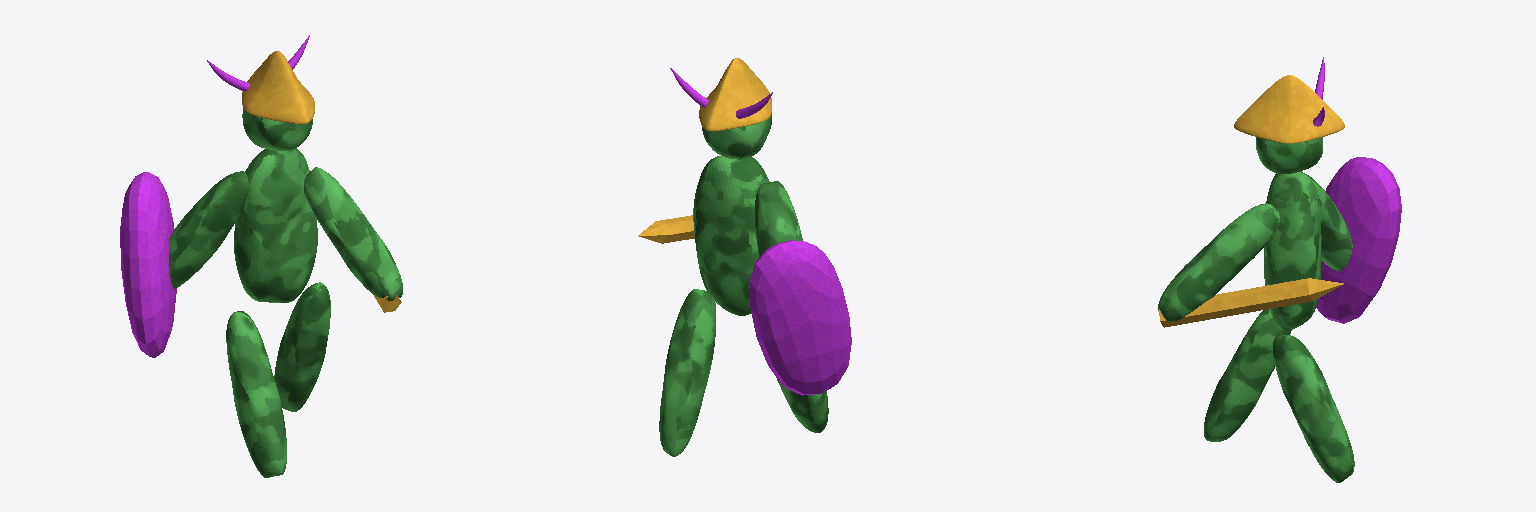
3 renders of one model, left to right at view 1: azimuth 30°, elevation 25°; view 2: azimuth 150°, elevation 25°; view 3: azimuth 270°, elevation 25°, orthographic.
Parts seen in each view (by area): view 1: polySurface12; view 2: polySurface12; view 3: polySurface12.
Part boxes in pixels (x1,y1,x2,y2): polySurface12: (120, 35, 402, 477); polySurface12: (638, 58, 851, 456); polySurface12: (1158, 57, 1401, 482).
Bounding box in the file's own units: 20.29 × 36.35 × 20.66.
Materials: 1 (1 with a texture image).